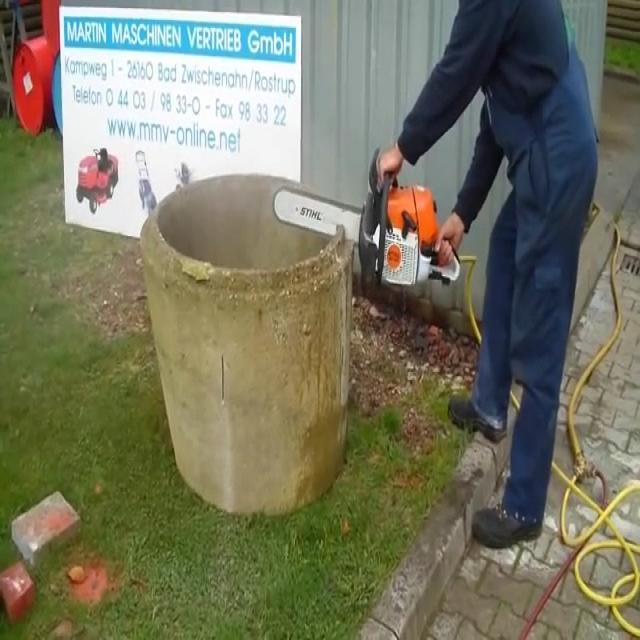Chainsaw: (258, 134, 478, 316)
